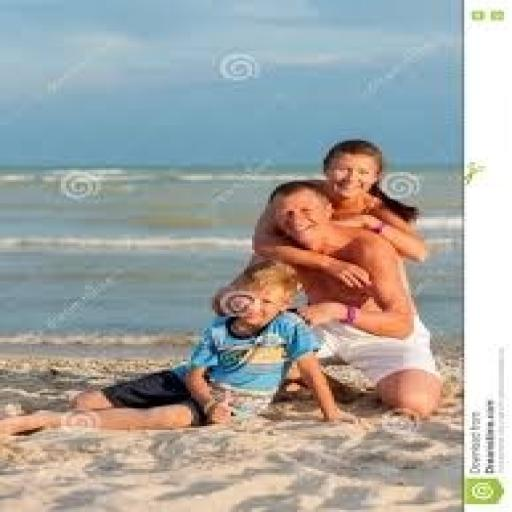hugging: (0, 138, 443, 440), (210, 137, 443, 424), (0, 260, 363, 440)
